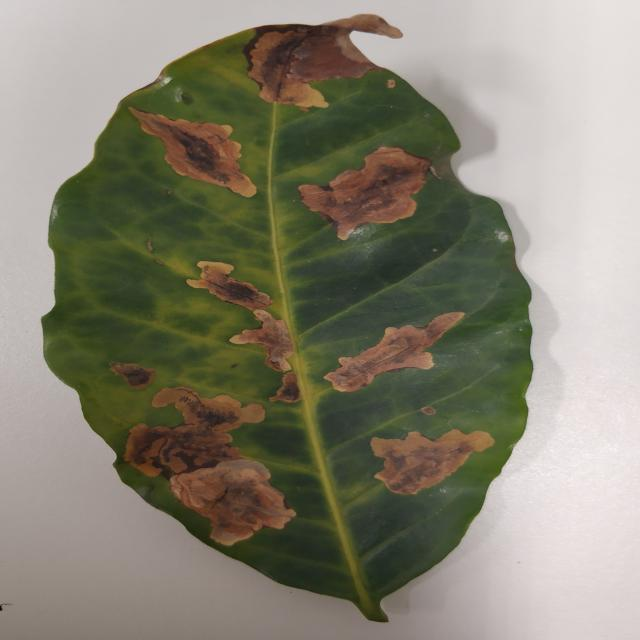Plaga-Minador: (39, 13, 534, 625)
